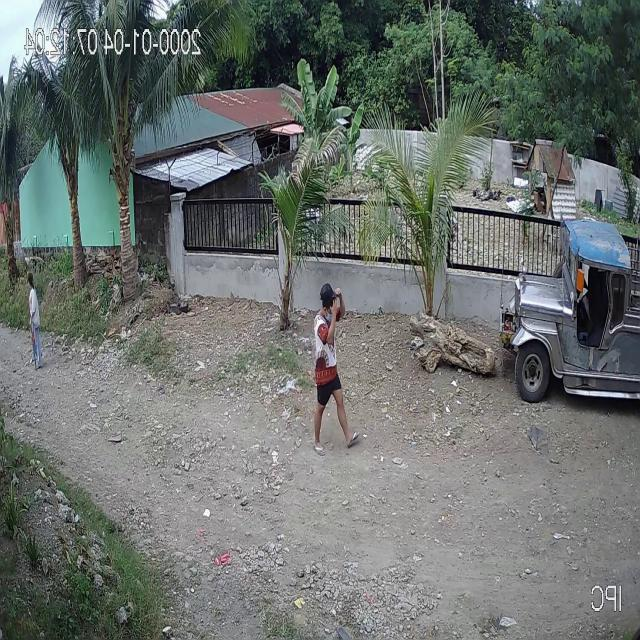walking: (312, 280, 361, 458), (26, 269, 46, 375)
